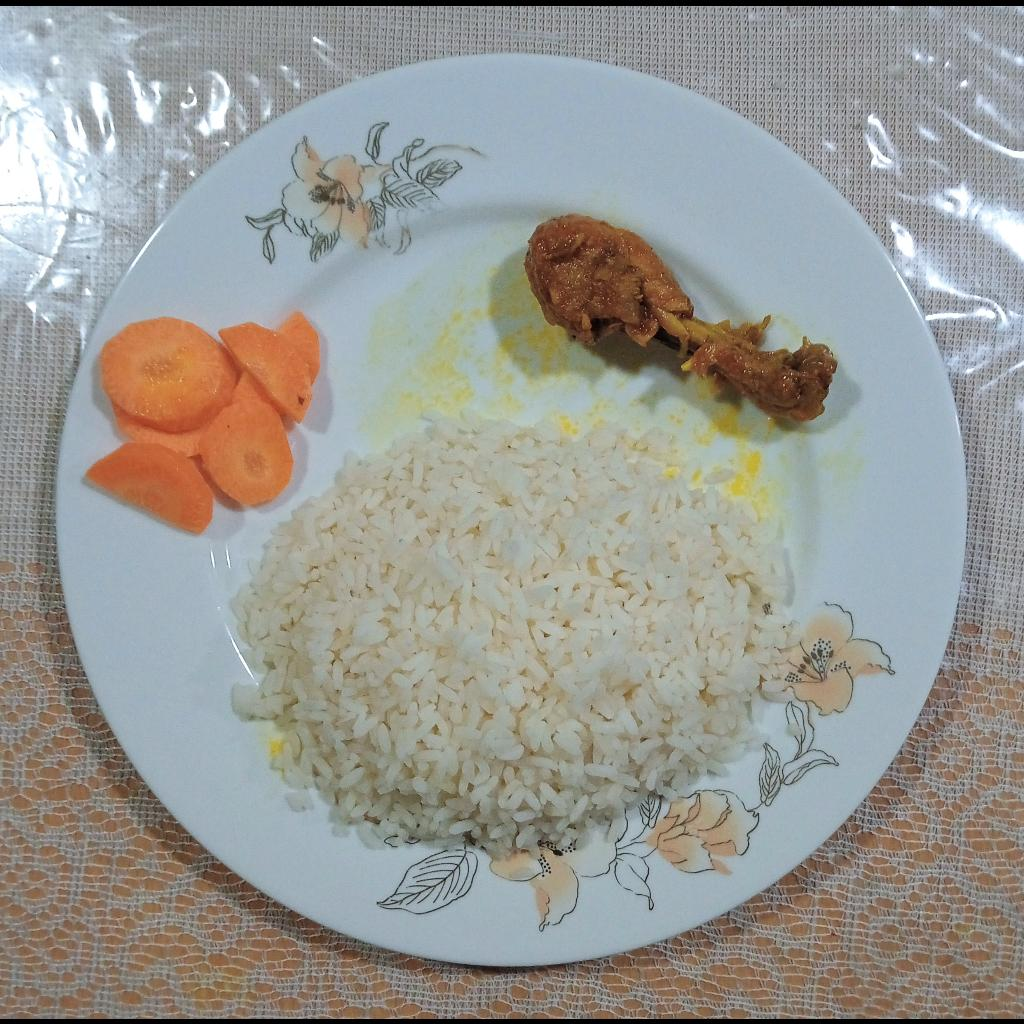carrot: (83, 307, 323, 532)
chicken: (526, 214, 835, 422)
rice: (237, 410, 805, 857)
